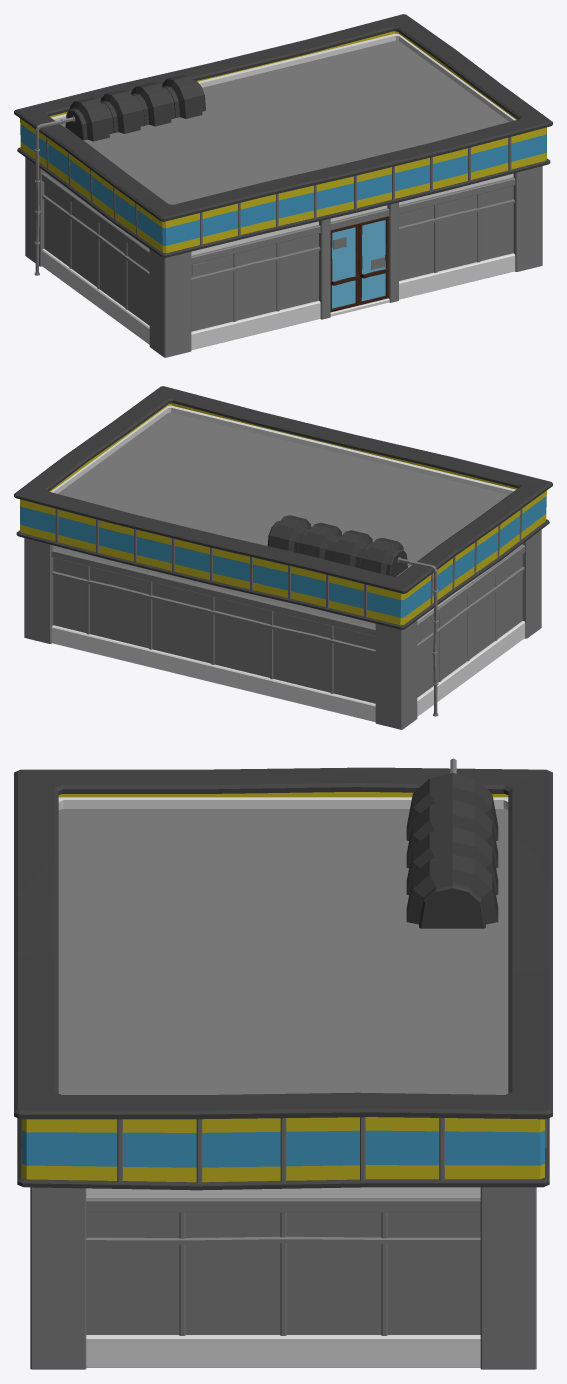
Rendered from SM_convienience_store.fbx.
3 views of the same model, one above another, from view 1: azimuth 30°, elevation 25°; view 2: azimuth 150°, elevation 25°; view 3: azimuth 270°, elevation 25° (orthographic). The views are drawn at different scales.
Visible parts, largest first — view 1: Object32382; view 2: Object32382; view 3: Object32382.
Part boxes in pixels (x1,y1,x2,y2): Object32382: [14, 14, 552, 357]; Object32382: [14, 386, 552, 729]; Object32382: [14, 758, 552, 1369].
Size of the model in its own units: 475 by 185 by 308.
